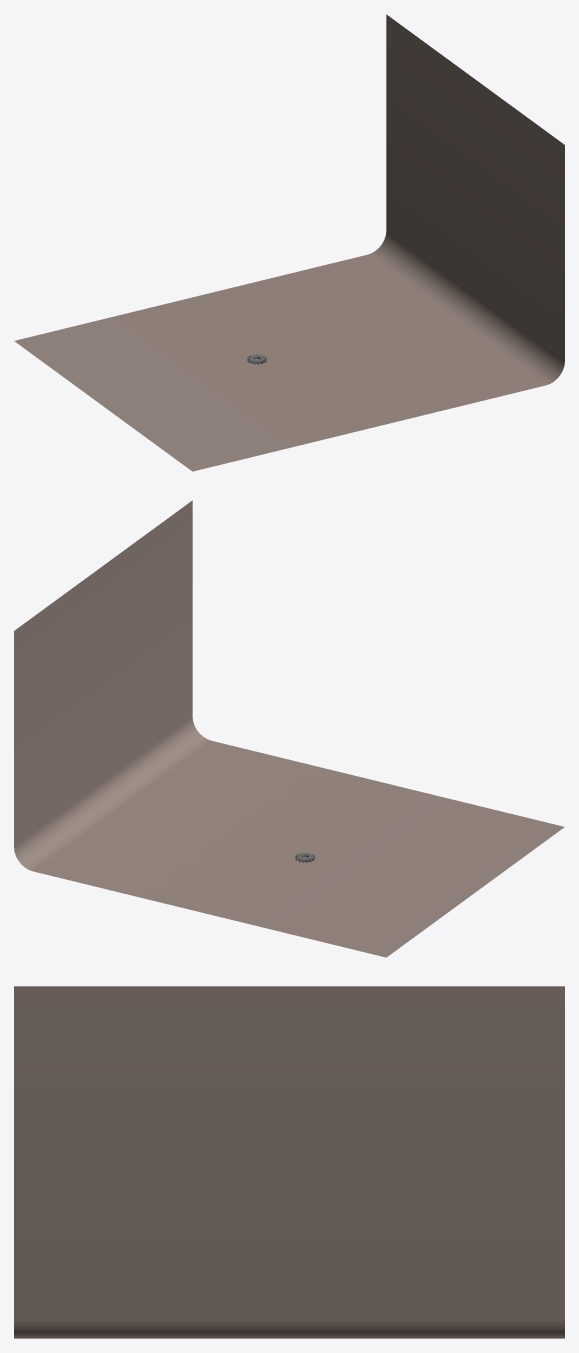
Rendered from Gear.obj.
3 views of the same model, one above another, from view 1: azimuth 30°, elevation 25°; view 2: azimuth 150°, elevation 25°; view 3: azimuth 270°, elevation 25° (orthographic). The views are drawn at different scales.
Parts seen in each view (by area): view 1: scene; view 2: scene; view 3: scene.
Boxes of the visible parts, left/top/right/bottom form: scene: left=14, top=14, right=564, bottom=471; scene: left=14, top=500, right=564, bottom=957; scene: left=14, top=986, right=564, bottom=1338.
Size of the model in its own units: 2327 by 1408 by 1933.
